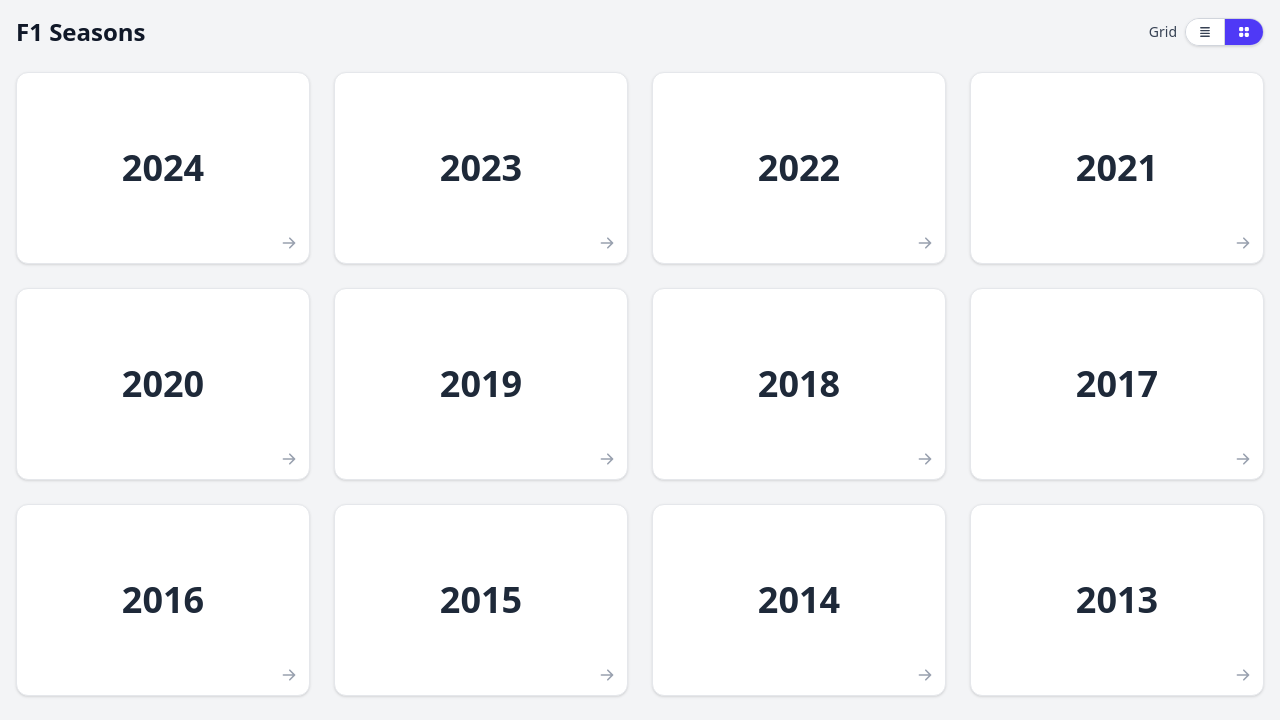
Test: switches between grid & list views
The image size is (1280, 720).
Expected: the heading "2024" is shown, x1=122 y1=143 x2=204 y2=192
Click the 1st button named "list view". click: (1205, 32)
box: x1=1186 y1=19 x2=1224 y2=45
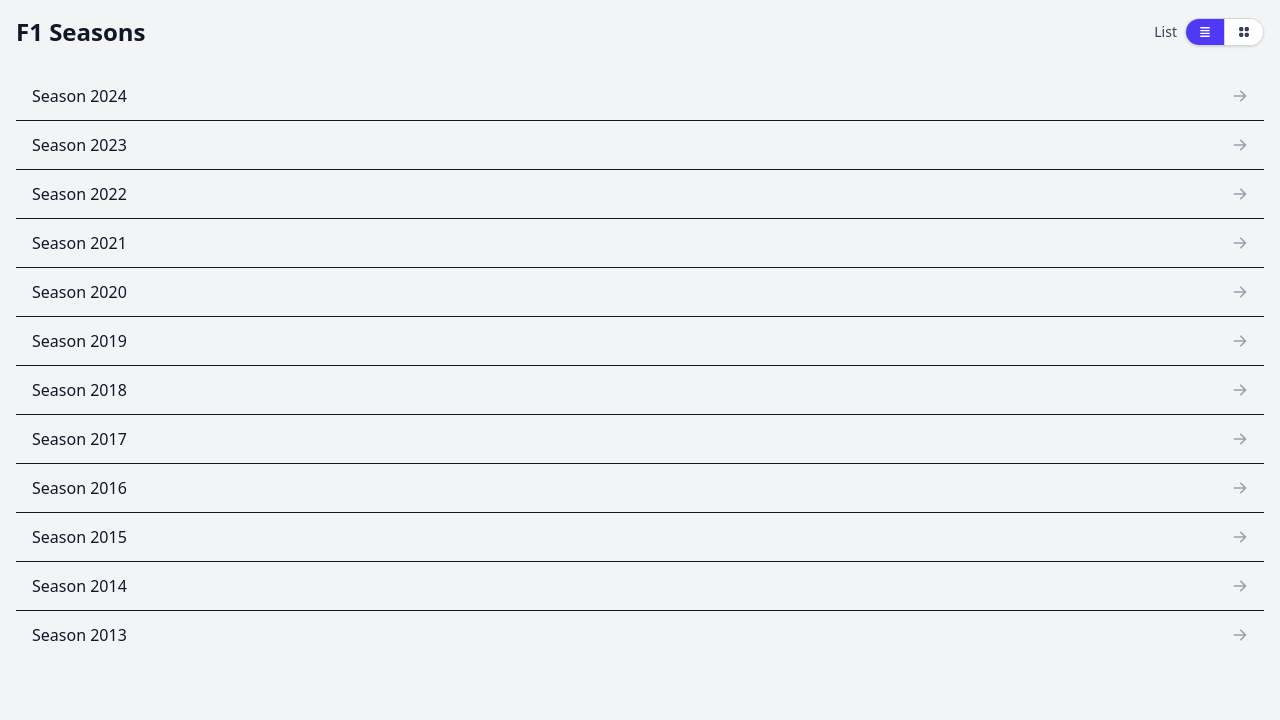
Expected: the list item "Season 2024" is shown, x1=16 y1=72 x2=1264 y2=121
